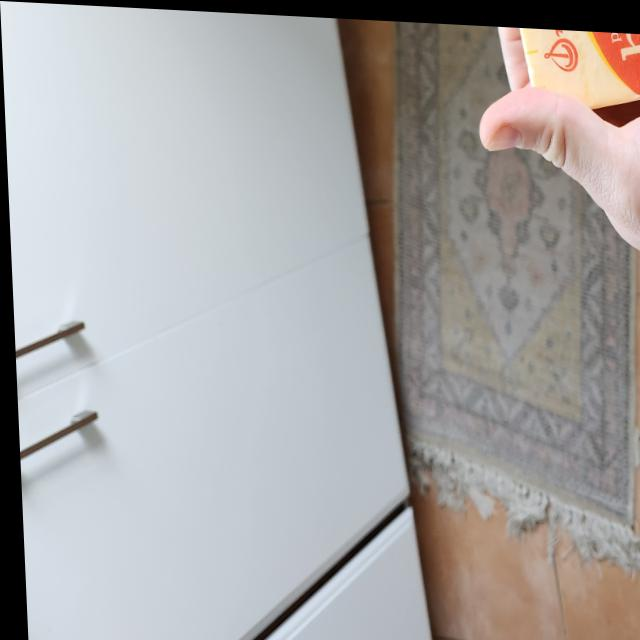butter: (491, 20, 640, 114)
